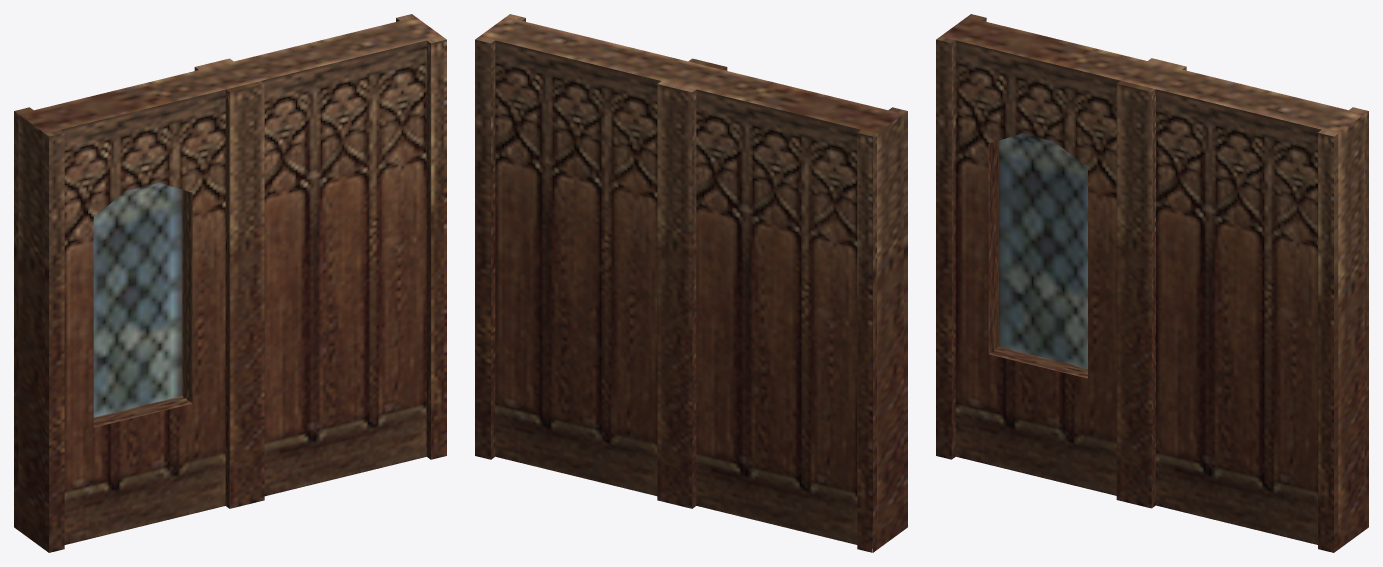
File: WoodWallWindow.fbx
The picture shows the model from 3 angles, left to right: view 1: azimuth 30°, elevation 25°; view 2: azimuth 150°, elevation 25°; view 3: azimuth 330°, elevation 25°; orthographic projection.
Visible parts, largest first — view 1: Cube.001; view 2: Cube.001; view 3: Cube.001.
Part boxes in pixels (x1=…): Cube.001: x1=14, y1=14, x2=446, y2=552; Cube.001: x1=475, y1=14, x2=907, y2=552; Cube.001: x1=936, y1=14, x2=1368, y2=552.
Size of the model in its own units: 371 by 371 by 56.49.
1 material, 1 textured.
